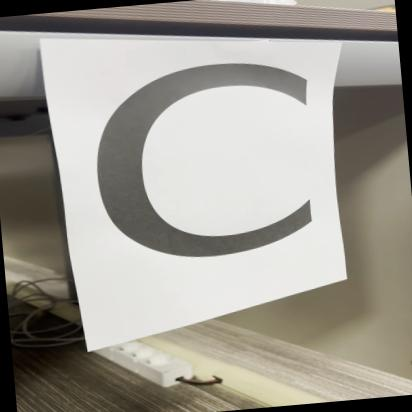seat: (55, 37, 338, 294)
